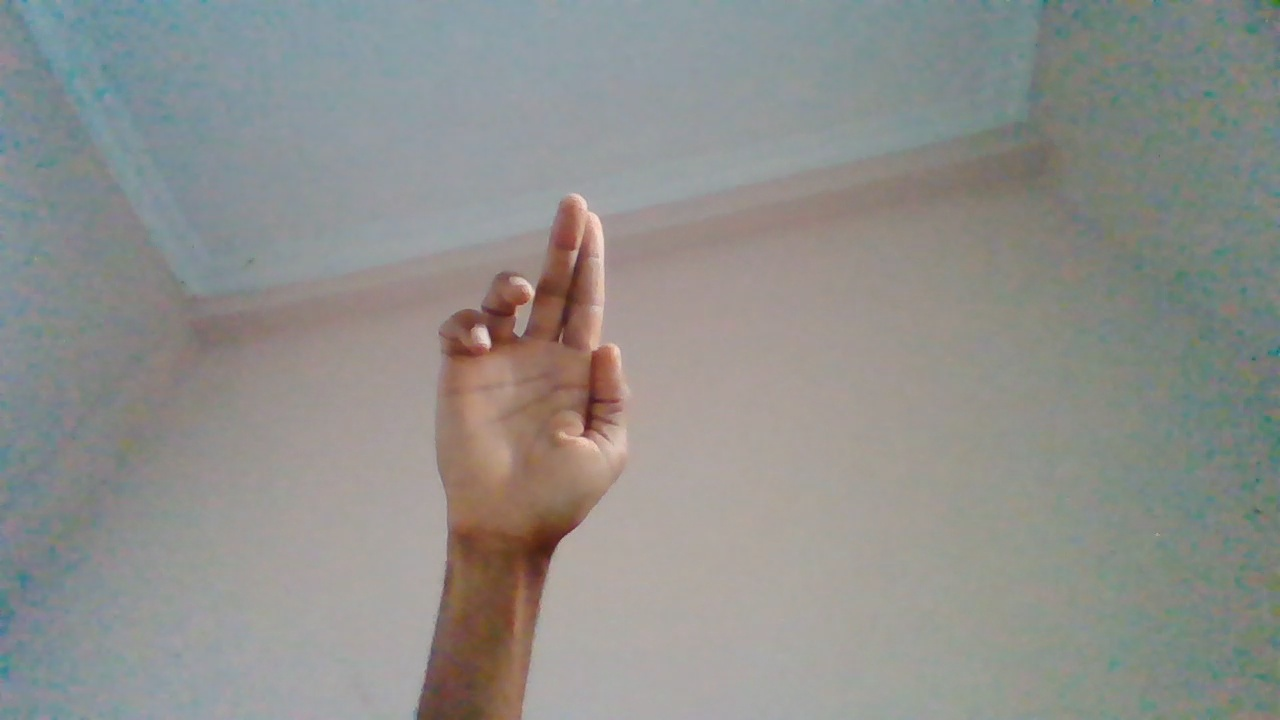gne: (437, 191, 629, 622)
